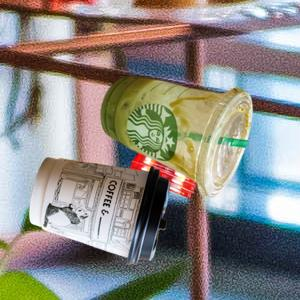cup: (27, 158, 171, 264)
